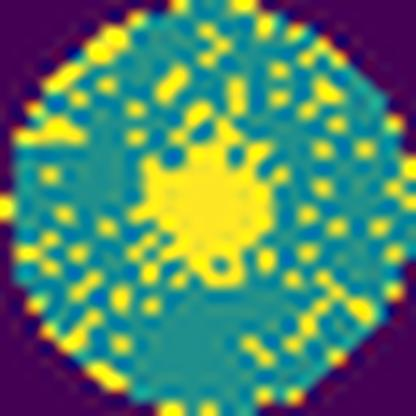Center: (126, 106, 289, 292)
